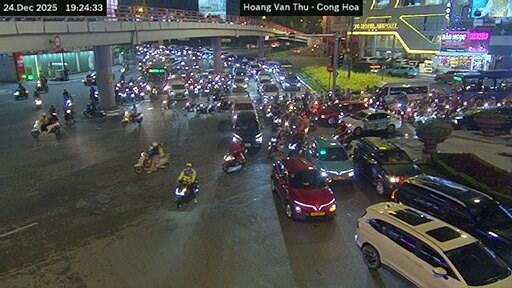motorbike: (173, 181, 197, 207), (221, 148, 246, 171), (31, 120, 60, 138), (332, 129, 352, 148), (121, 109, 141, 126), (288, 135, 304, 156), (135, 151, 150, 172), (83, 104, 105, 117), (268, 136, 281, 156), (64, 98, 73, 124), (82, 72, 96, 85), (195, 102, 208, 115), (162, 99, 176, 111), (12, 88, 28, 98), (154, 153, 166, 166), (182, 100, 195, 112), (217, 100, 231, 111), (35, 79, 47, 91), (34, 97, 41, 108)
